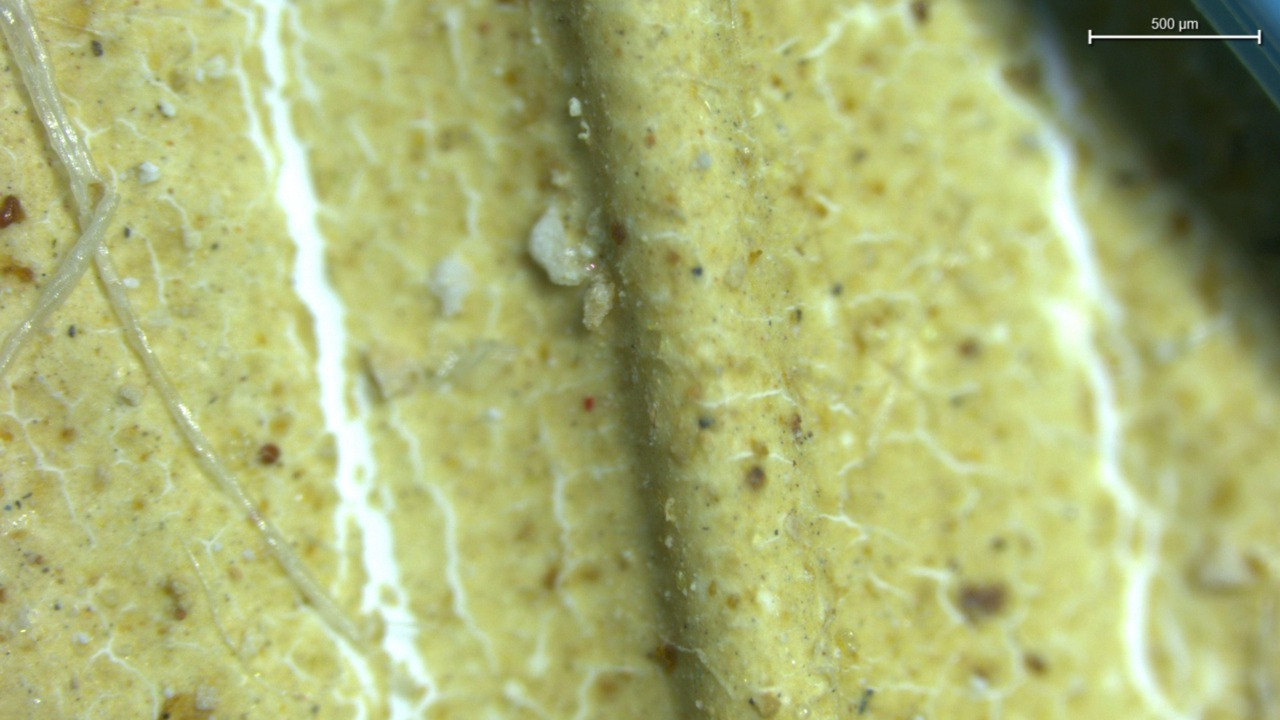microplastic_fragment: (526, 207, 599, 286), (587, 278, 613, 332)
